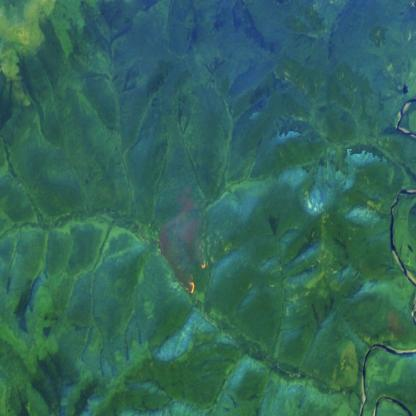fire: (182, 258, 208, 298)
